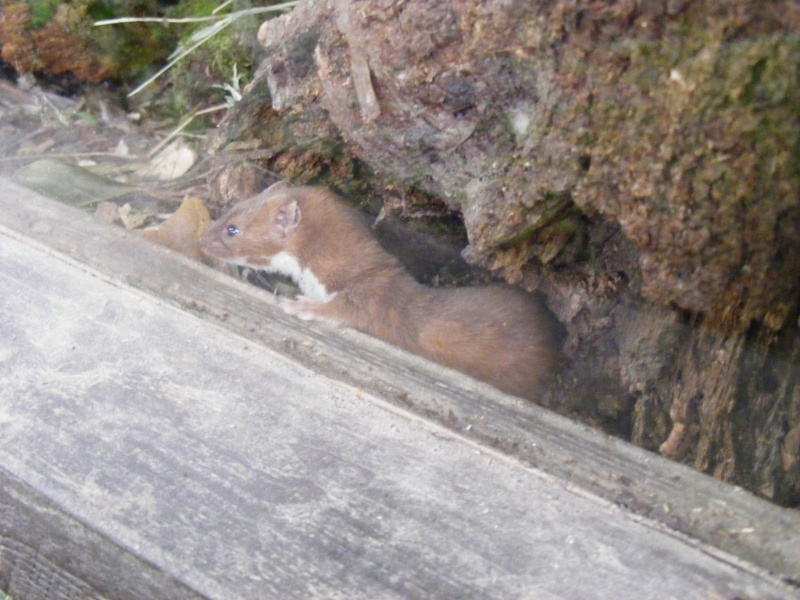minkish: (197, 183, 572, 416)
